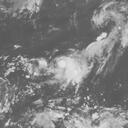cyclone: (45, 4, 127, 84)
